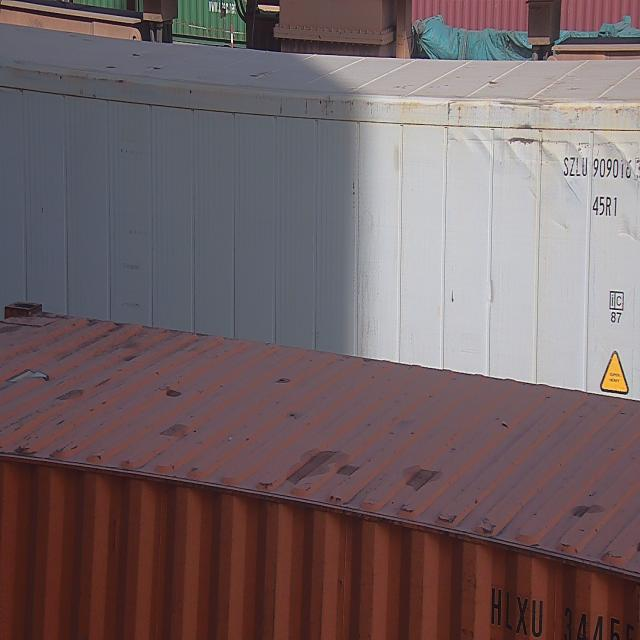dent: (476, 129, 574, 151)
